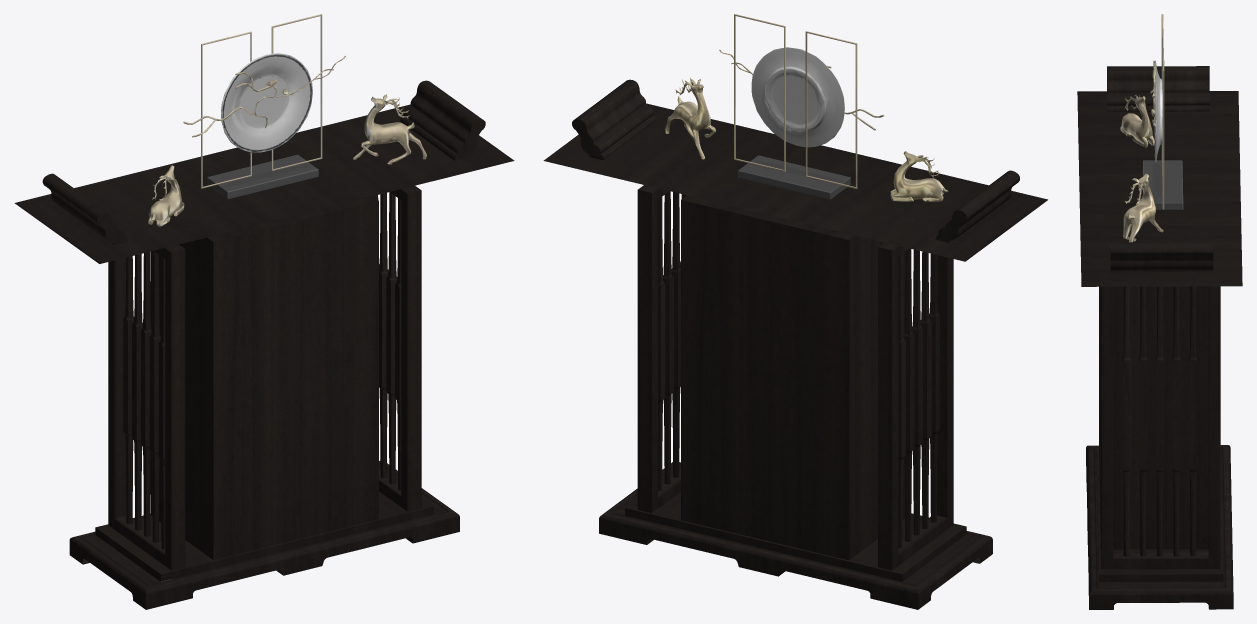
Rendered from raw_model.obj.
3 renders of one model, left to right at view 1: azimuth 30°, elevation 25°; view 2: azimuth 150°, elevation 25°; view 3: azimuth 270°, elevation 25°, orthographic. The views are drawn at different scales.
Parts seen in each view (by area): view 1: solid_004, solid_003, solid_002, solid_001; view 2: solid_004, solid_003, solid_002, solid_001; view 3: solid_004, solid_002, solid_001, solid_003.
Part boxes in pixels (<box>): solid_004: <box>14,80,514,609</box>; solid_003: <box>221,53,312,152</box>; solid_002: <box>148,14,426,226</box>; solid_001: <box>207,154,318,199</box>; solid_004: <box>543,79,1047,609</box>; solid_003: <box>751,47,844,147</box>; solid_002: <box>664,14,948,201</box>; solid_001: <box>738,155,850,199</box>; solid_004: <box>1077,66,1242,609</box>; solid_002: <box>1120,14,1164,242</box>; solid_001: <box>1142,160,1183,209</box>; solid_003: <box>1154,60,1162,162</box>.
Size of the model in its own units: 1.16 by 1.37 by 0.4148.
Materials: 1 (1 with a texture image).
